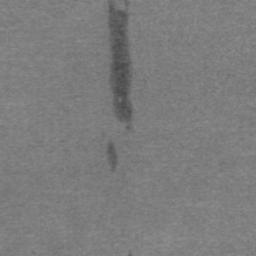Iron scale compression: (107, 0, 133, 130), (107, 139, 117, 172)
